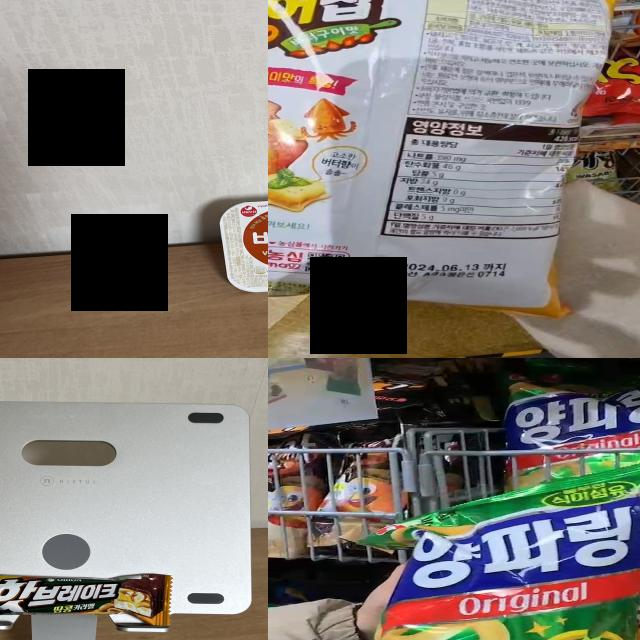bYott: (217, 202, 268, 290)
hotBreak: (0, 571, 169, 616)
onionRing: (368, 511, 640, 640), (490, 380, 640, 467)
ozingZip: (268, 0, 567, 291)
